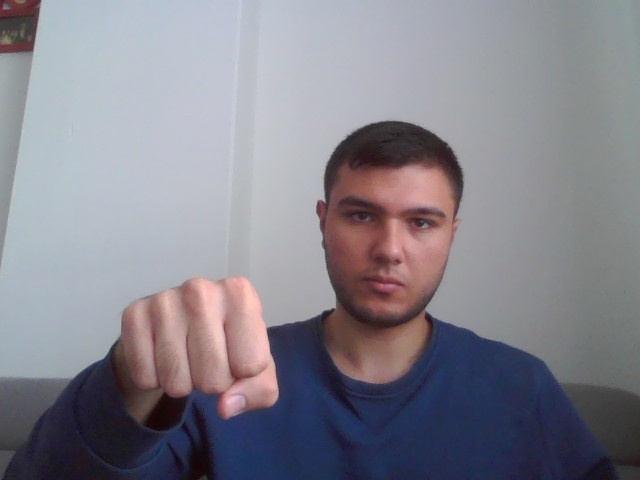yes: (115, 273, 289, 415)
